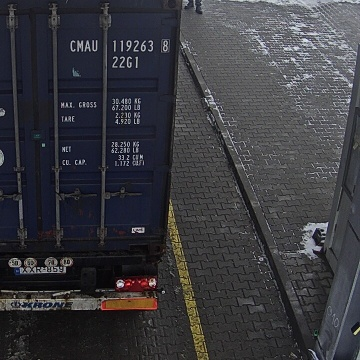serial_id: (69, 40, 168, 52)
